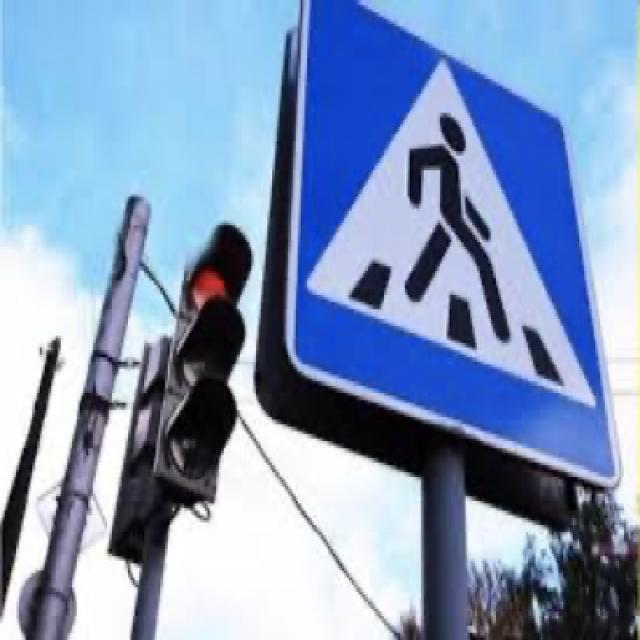crosswalk_sign: (280, 0, 624, 494)
